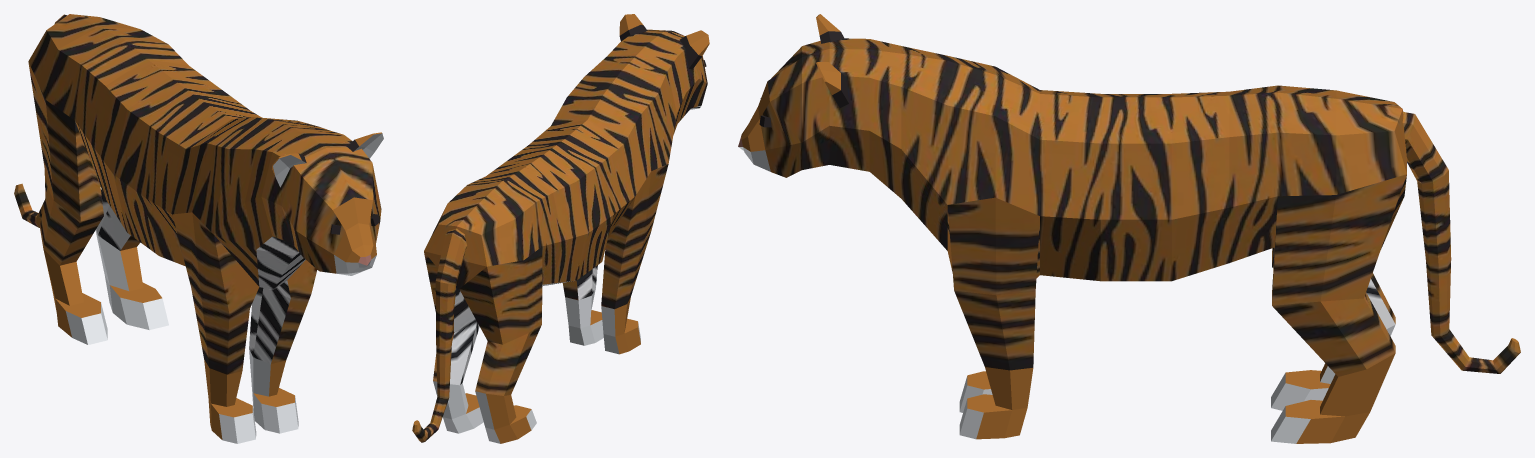
File: Tiger.glb
3 renders of one model, left to right at view 1: azimuth 30°, elevation 25°; view 2: azimuth 150°, elevation 25°; view 3: azimuth 270°, elevation 25°, orthographic. The views are drawn at different scales.
Parts seen in each view (by area): view 1: Geo_BengalTiger; view 2: Geo_BengalTiger; view 3: Geo_BengalTiger.
Part boxes in pixels (box(x1,y1,x2,y2)): Geo_BengalTiger: box(14, 14, 383, 443); Geo_BengalTiger: box(412, 14, 709, 443); Geo_BengalTiger: box(738, 14, 1520, 443).
Bounding box in the file's own units: 45.1 × 123 × 230.
Materials: 1 (1 with a texture image).
